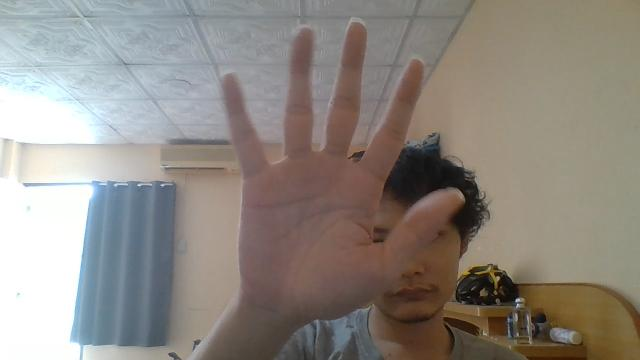Stop: (216, 16, 464, 323)
